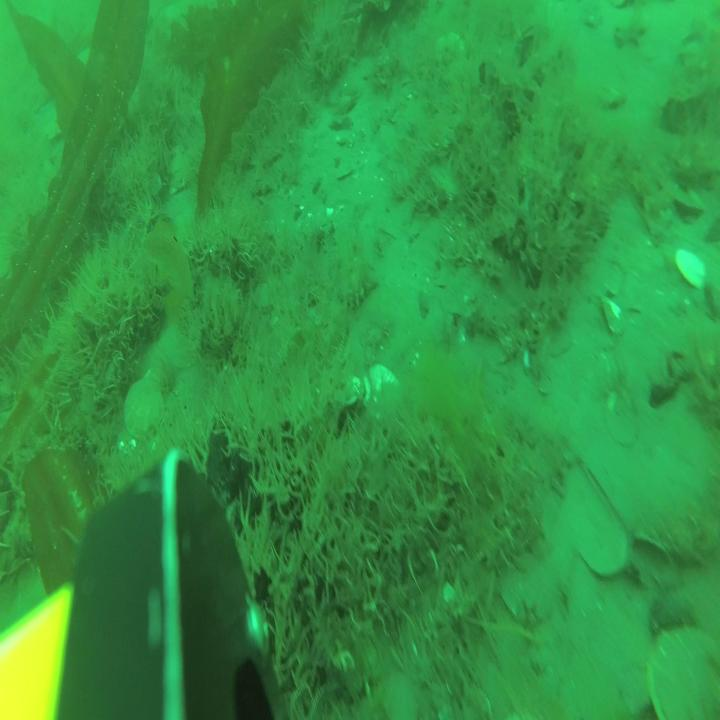scallop: (651, 623, 720, 720), (126, 369, 166, 433), (364, 364, 402, 414), (674, 244, 708, 290)
